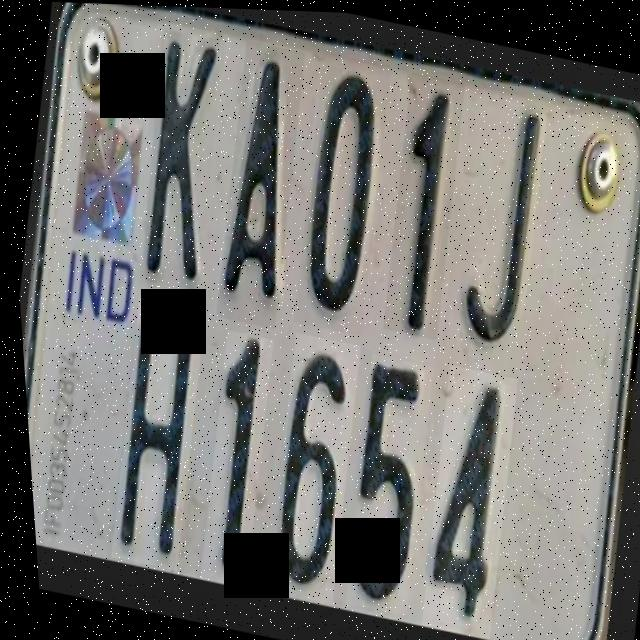0: (275, 47, 404, 335)
1: (365, 68, 478, 338), (179, 327, 281, 589)
4: (399, 360, 526, 637)
5: (324, 350, 443, 614)
6: (245, 329, 369, 603)
A: (197, 37, 320, 328)
H: (89, 295, 214, 570)
J: (436, 88, 561, 360)
K: (120, 22, 238, 297)
